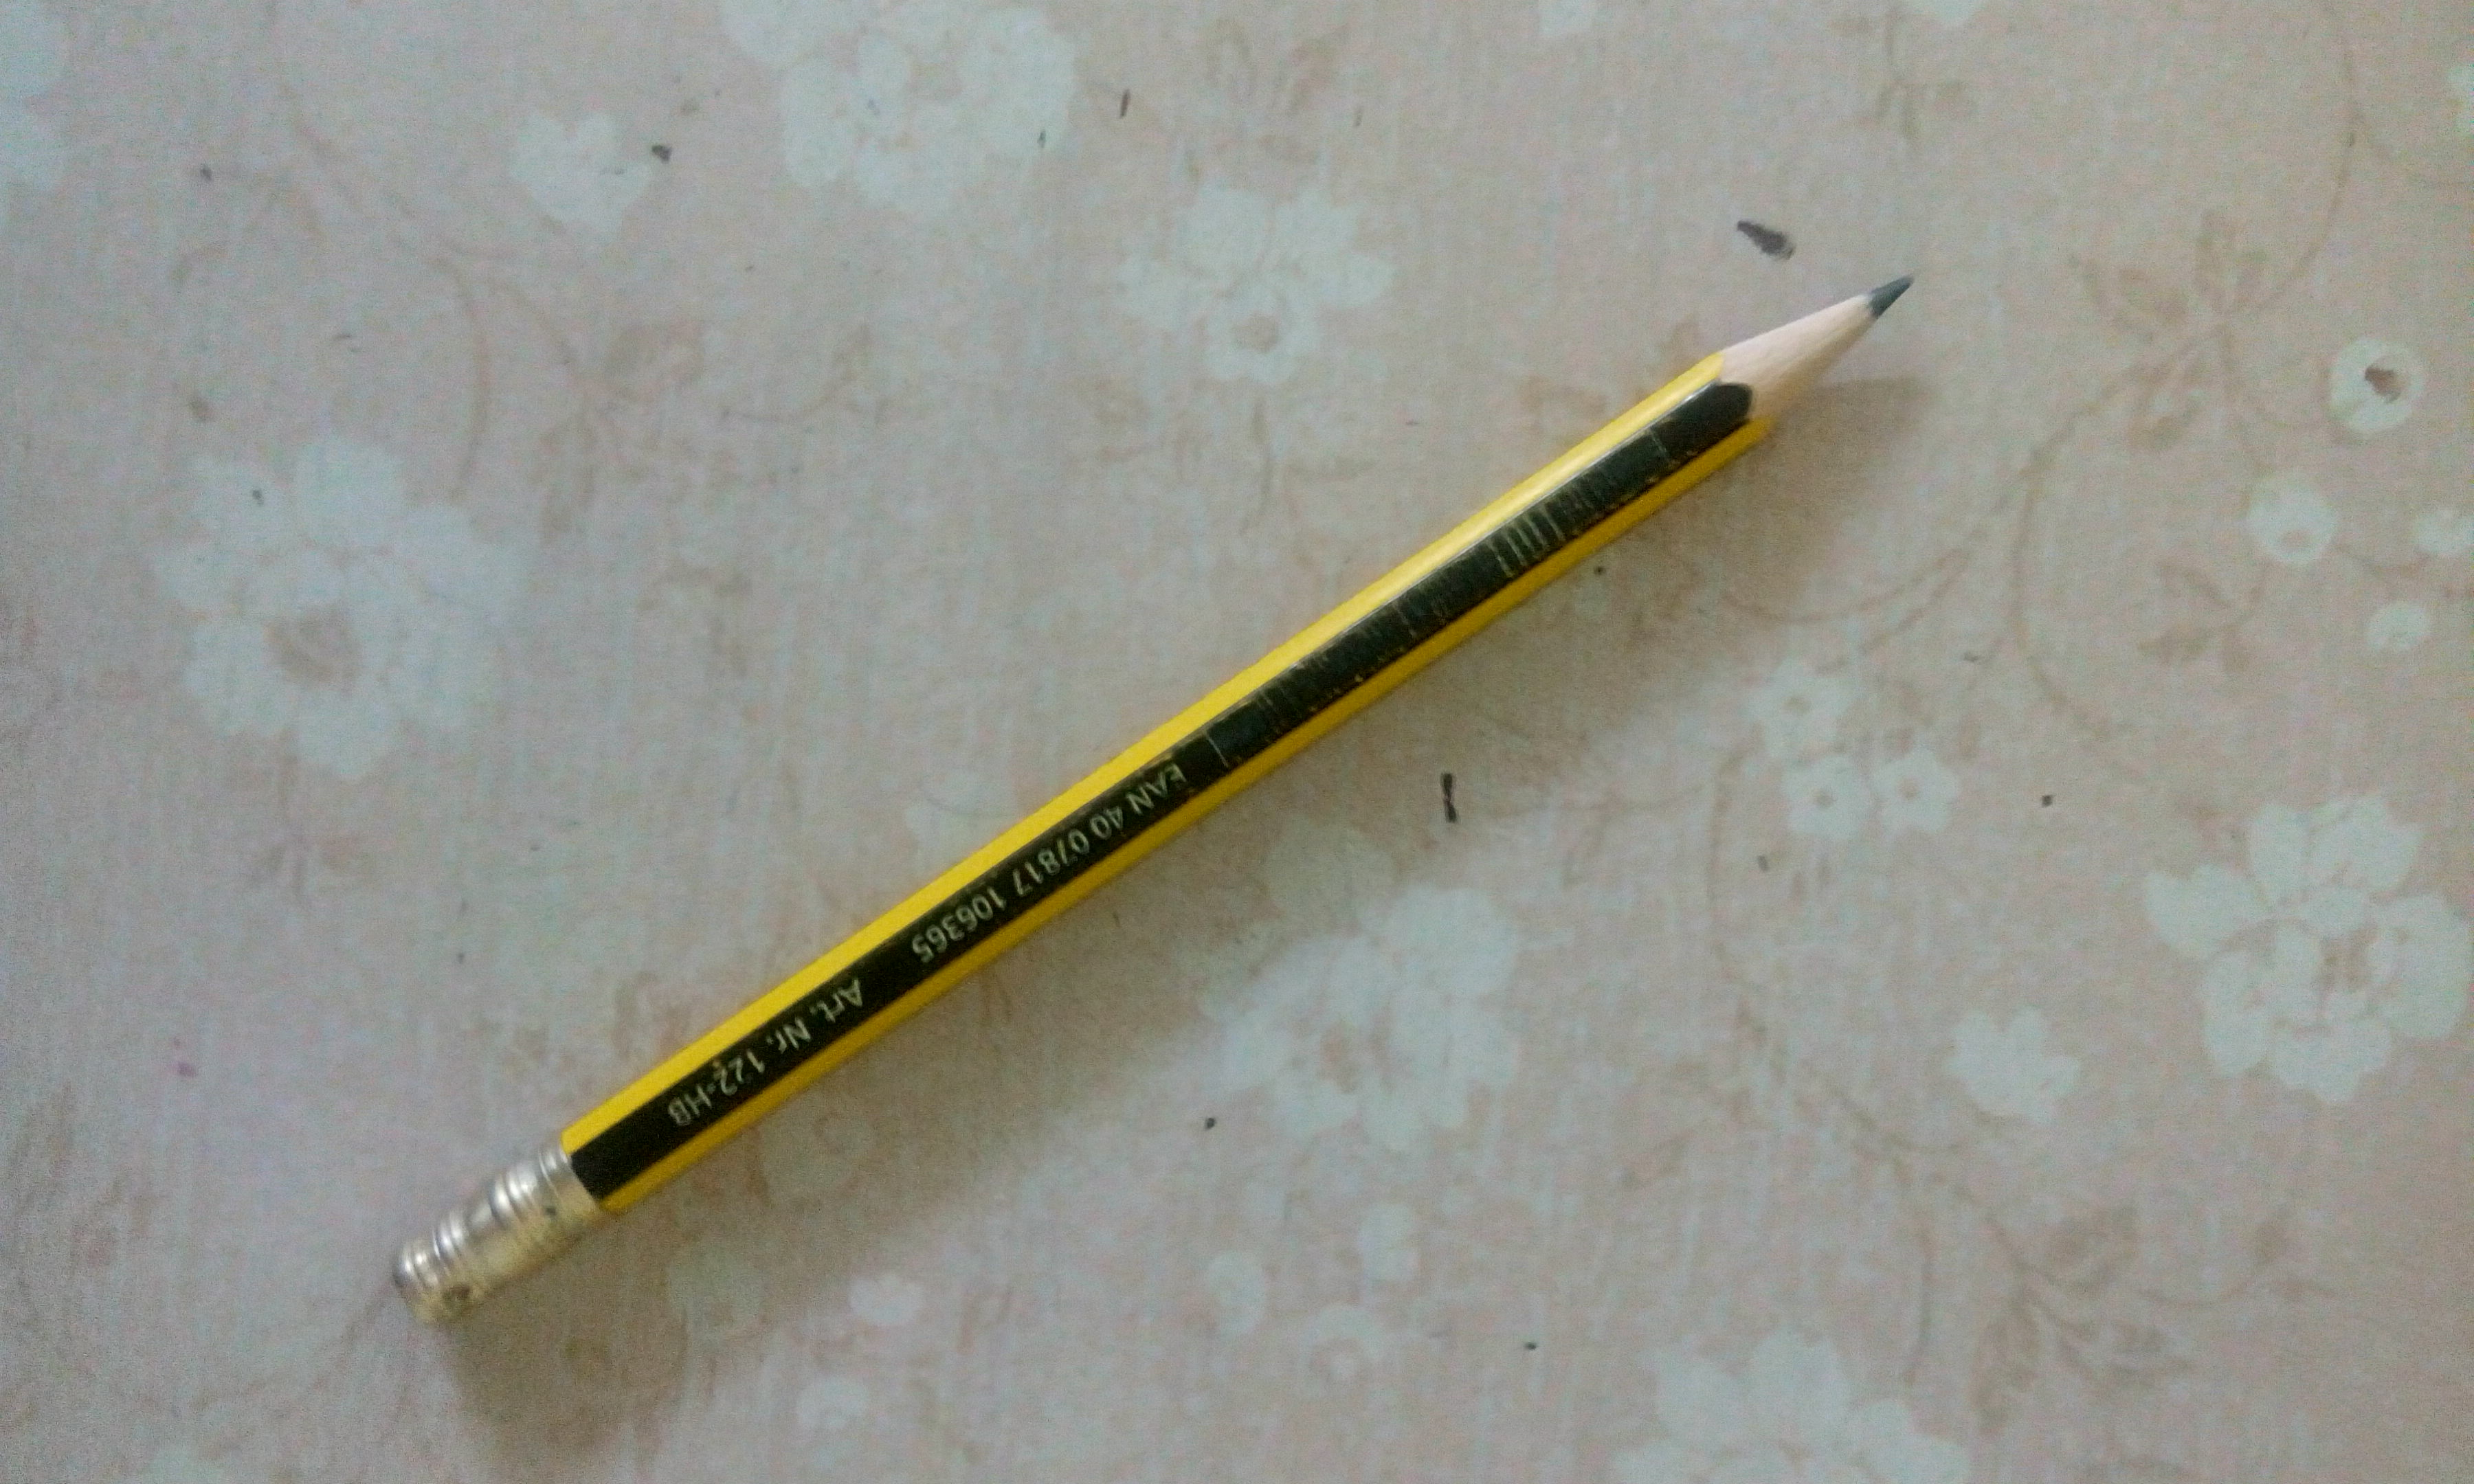pen_tip: (1649, 214, 2018, 521)
